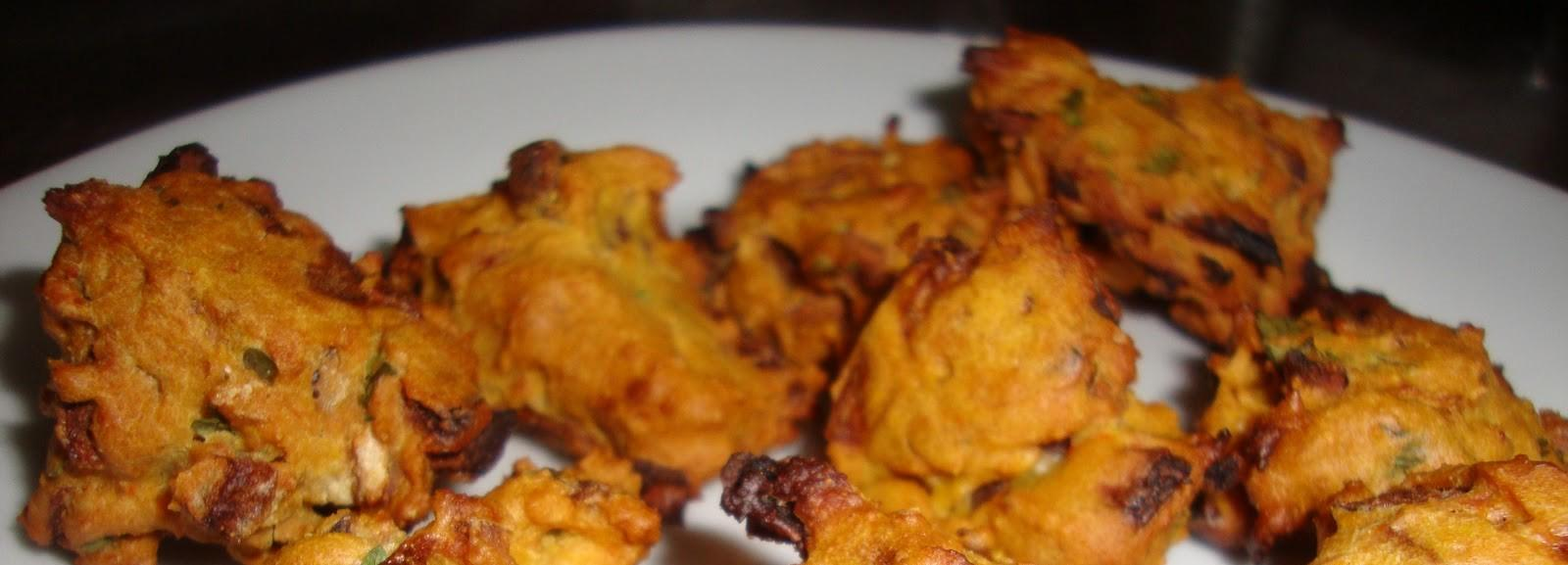OnionPakoda: (19, 0, 1568, 565)
